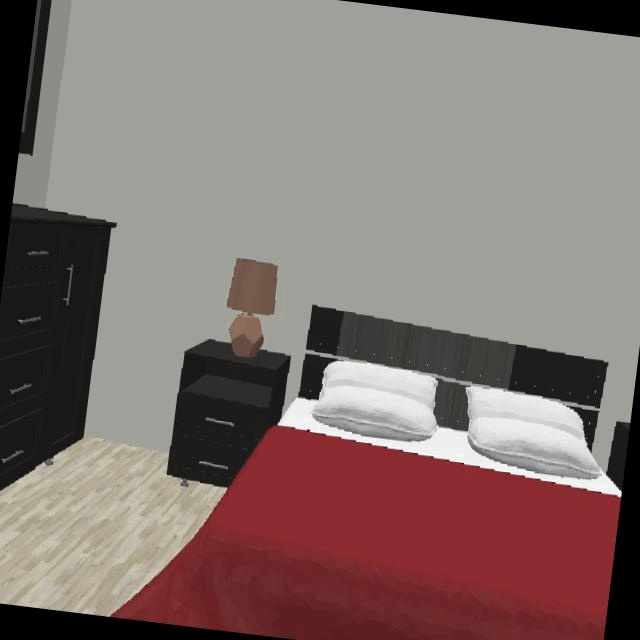bed: (108, 305, 621, 640), (166, 340, 292, 489)
cabinet: (0, 203, 116, 491)
lamp: (225, 258, 279, 358)
nighttable: (166, 340, 291, 487), (605, 421, 630, 491)
pillow: (464, 386, 602, 480), (309, 361, 437, 443)
